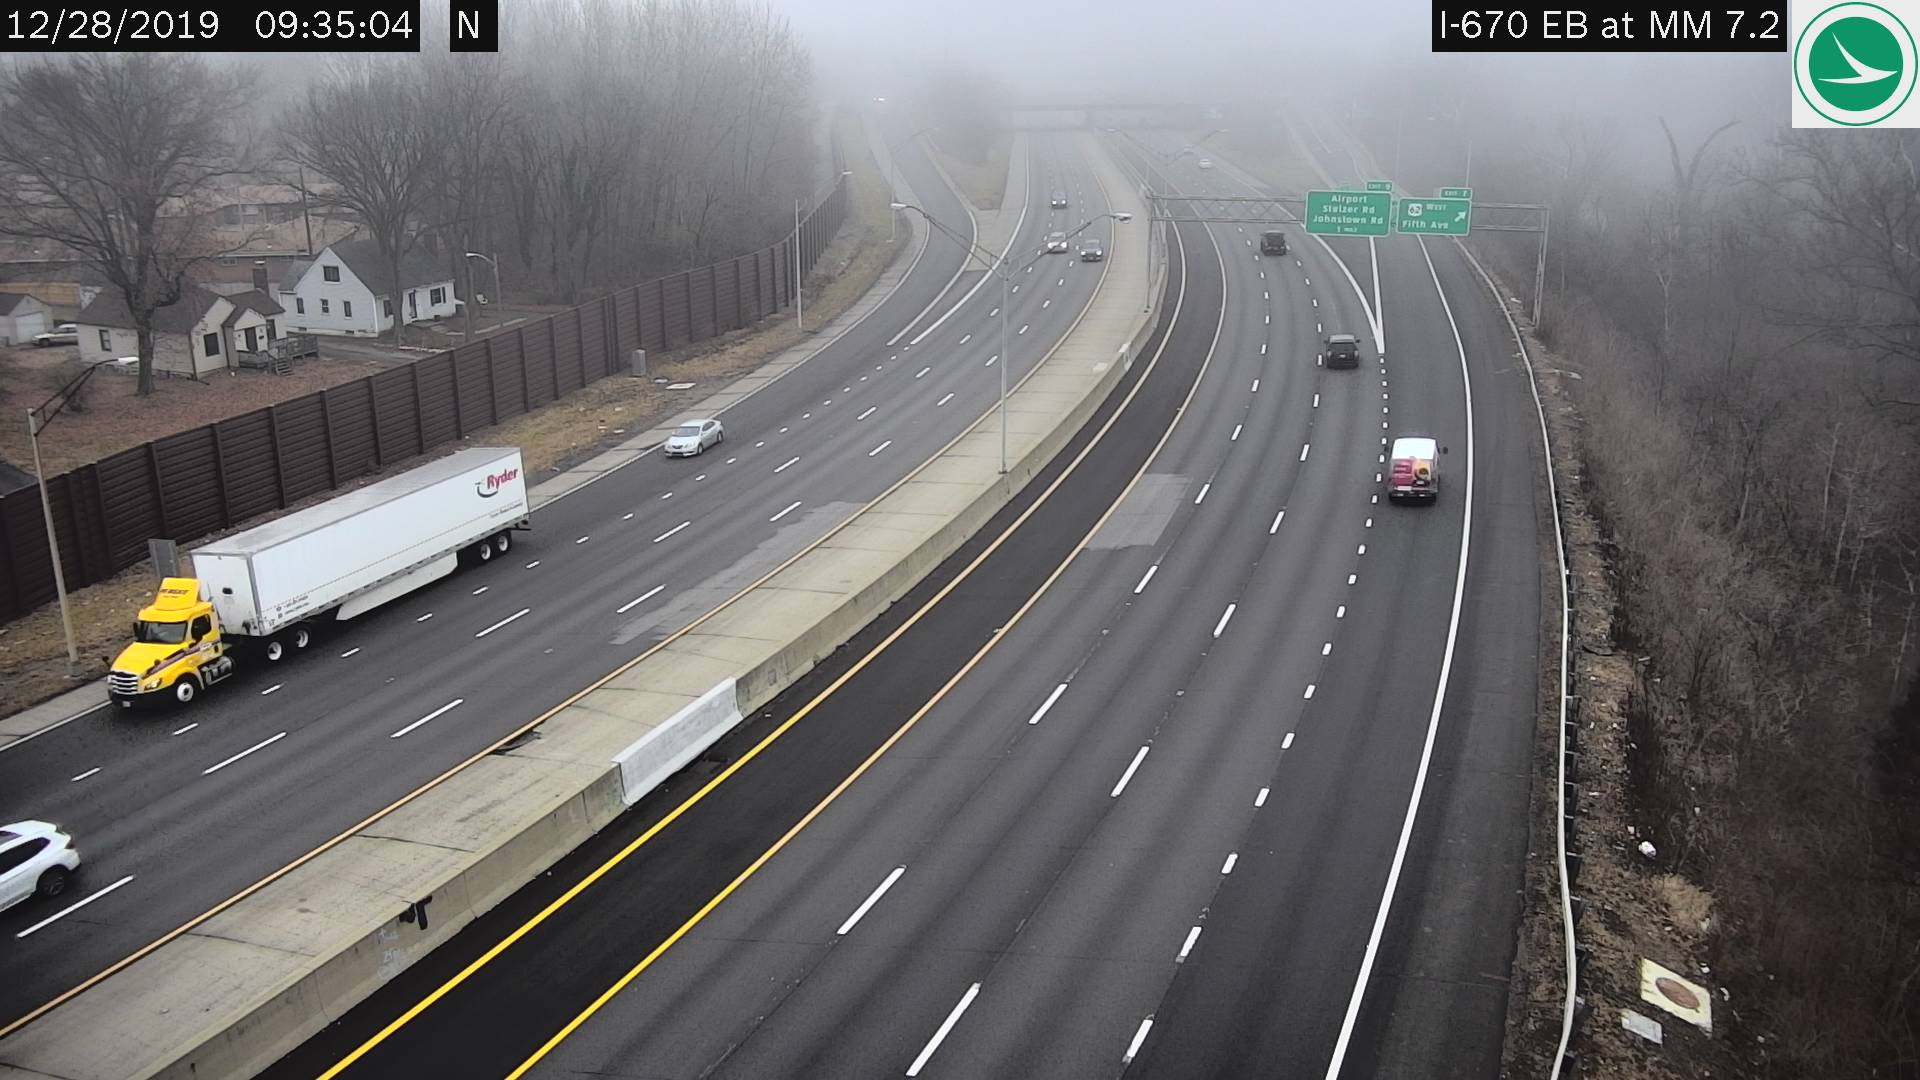car: (105, 448, 526, 708), (3, 820, 78, 913), (1386, 436, 1437, 500), (662, 415, 723, 456), (1323, 332, 1358, 368), (1044, 227, 1065, 255), (1077, 236, 1101, 260), (1262, 228, 1286, 252), (1050, 189, 1065, 206)
